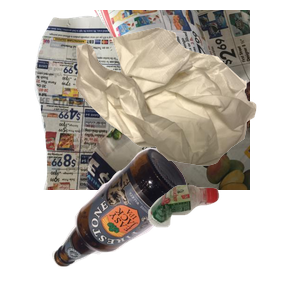glass: (49, 145, 229, 300)
paper: (32, 10, 272, 190)
plastic: (146, 182, 300, 300)
trash: (73, 25, 300, 183)
